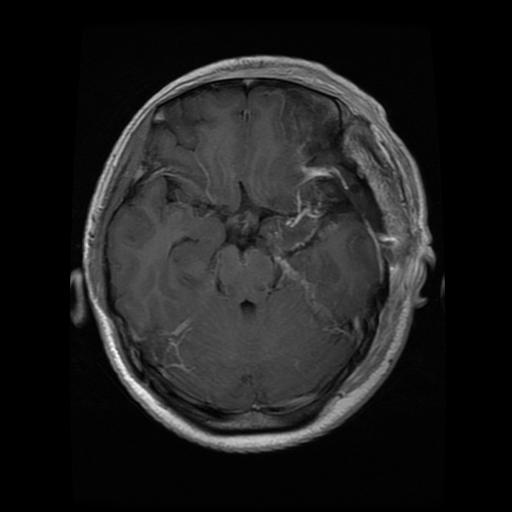Gliomia_tumour: (267, 168, 383, 320)
